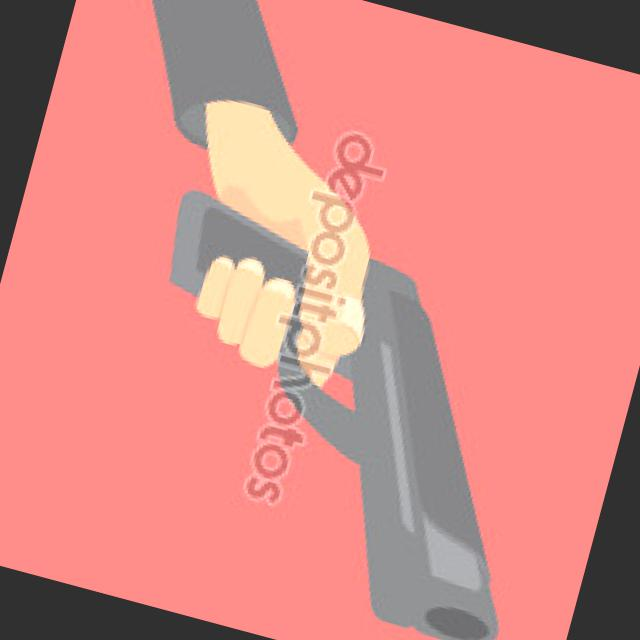handgun: (89, 177, 594, 639)
